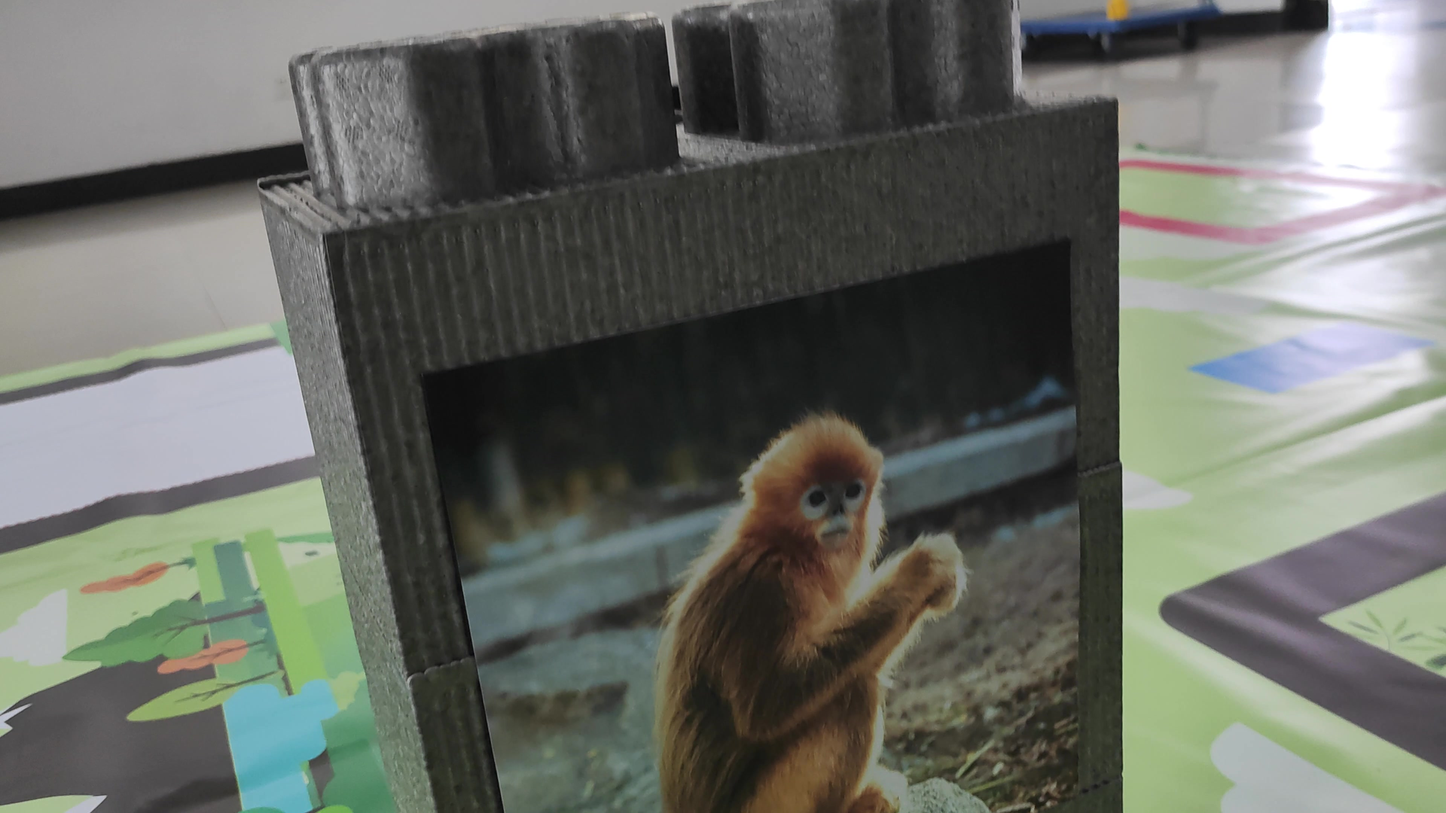monkey: (613, 392, 1013, 810)
